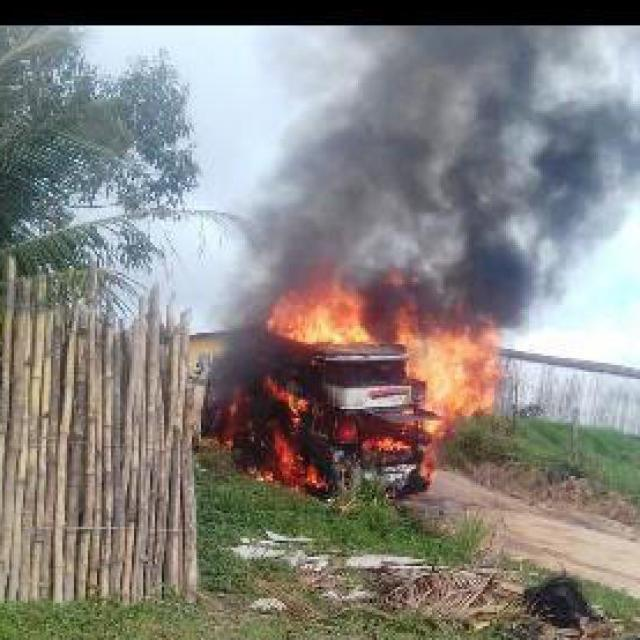fire: (393, 308, 497, 434), (272, 270, 374, 340), (268, 425, 319, 492), (363, 432, 409, 450)
smoke: (265, 28, 640, 312)
